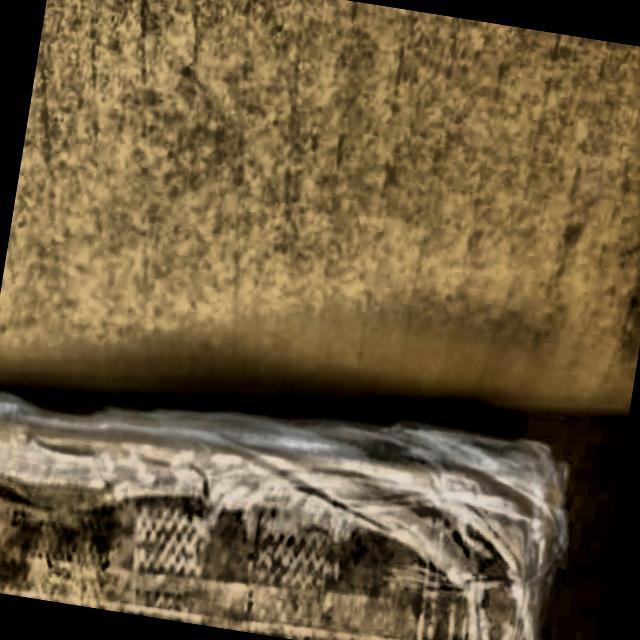cardboard: (0, 353, 585, 640)
